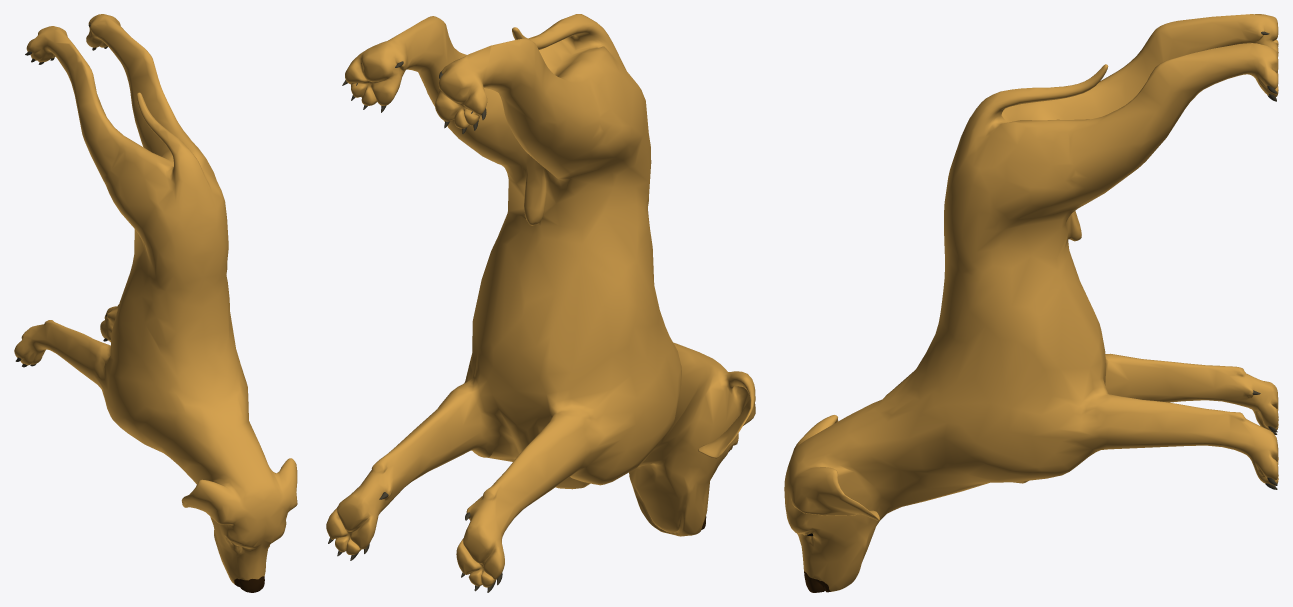
The model's file is Dog20KN.obj.
3 renders of one model, left to right at view 1: azimuth 30°, elevation 25°; view 2: azimuth 150°, elevation 25°; view 3: azimuth 270°, elevation 25°, orthographic. The views are drawn at different scales.
Bounding box in the file's own units: 1368 × 4992 × 3981.
